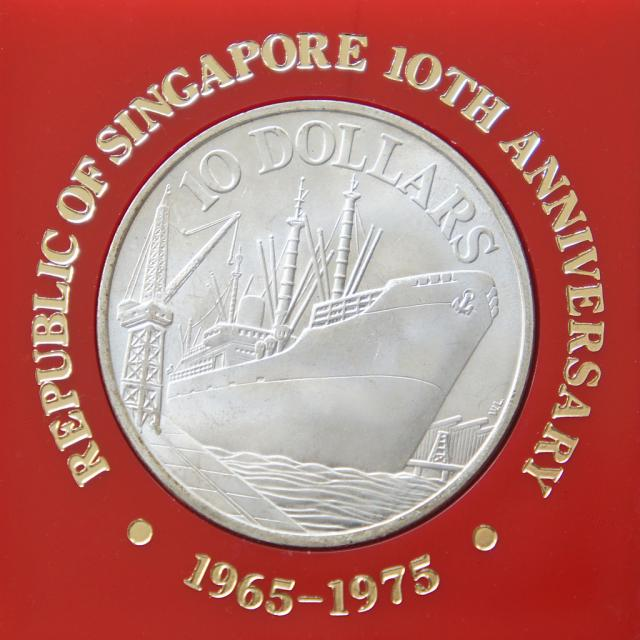Coin: (93, 98, 540, 548)
